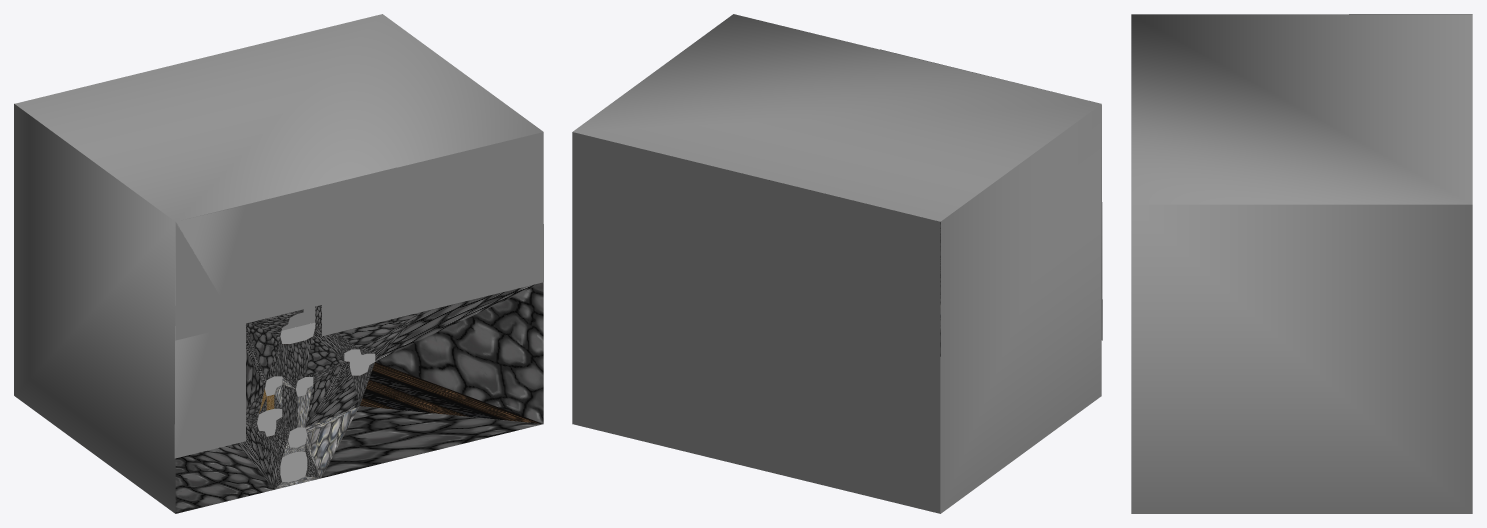
The model's file is Cage.FBX.
The picture shows the model from 3 angles, left to right: view 1: azimuth 30°, elevation 25°; view 2: azimuth 150°, elevation 25°; view 3: azimuth 270°, elevation 25°; orthographic projection. The views are drawn at different scales.
Visible parts, largest first — view 1: Quad, WindowSide; view 2: Quad; view 3: Quad.
Boxes of the visible parts, x1,y1,x2,y2 form: Quad: (14, 14, 543, 513); WindowSide: (175, 282, 543, 513); Quad: (572, 14, 1102, 513); Quad: (1131, 14, 1472, 513).
Bounding box in the file's own units: 47.63 × 36.07 × 36.02.
Materials: 2 (1 with a texture image).
